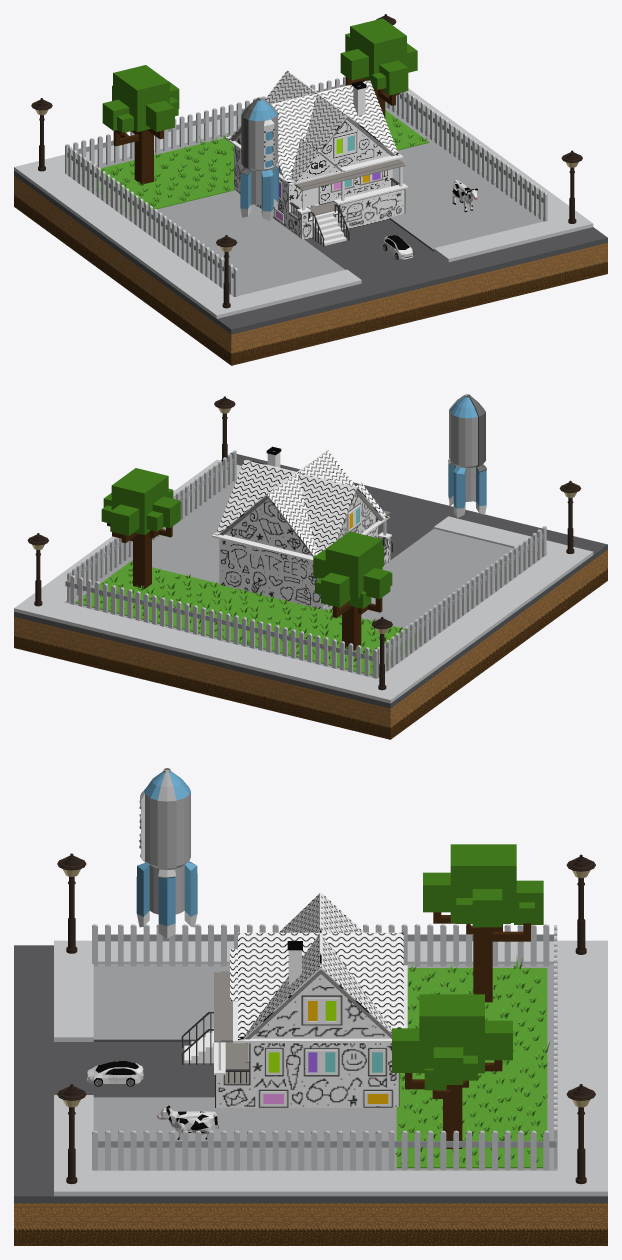
The picture shows the model from 3 angles, top to bottom: view 1: azimuth 30°, elevation 25°; view 2: azimuth 150°, elevation 25°; view 3: azimuth 270°, elevation 25°; orthographic projection. The views are drawn at different scales.
Visible parts, largest first — view 1: Cube.004, Cube.879, OBJRANDOM_ROCKETSHIP, VEHICLES_TESLA, ANIMAL_VACA; view 2: Cube.004, Cube.879, OBJRANDOM_ROCKETSHIP; view 3: Cube.004, Cube.879, OBJRANDOM_ROCKETSHIP, VEHICLES_TESLA, ANIMAL_VACA.
Boxes of the visible parts, x1,y1,x2,y2 form: Cube.004: (14, 14, 607, 365); Cube.879: (225, 71, 407, 246); OBJRANDOM_ROCKETSHIP: (240, 97, 279, 220); VEHICLES_TESLA: (383, 235, 413, 259); ANIMAL_VACA: (452, 180, 478, 212); Cube.004: (14, 396, 607, 739); Cube.879: (212, 446, 392, 609); OBJRANDOM_ROCKETSHIP: (448, 394, 486, 517); Cube.004: (14, 844, 607, 1245); Cube.879: (181, 893, 407, 1107); OBJRANDOM_ROCKETSHIP: (136, 768, 197, 938); VEHICLES_TESLA: (87, 1061, 143, 1086); ANIMAL_VACA: (157, 1105, 218, 1140).
Size of the model in its own units: 4000 by 2120 by 4000.
35 materials, 11 textured.
